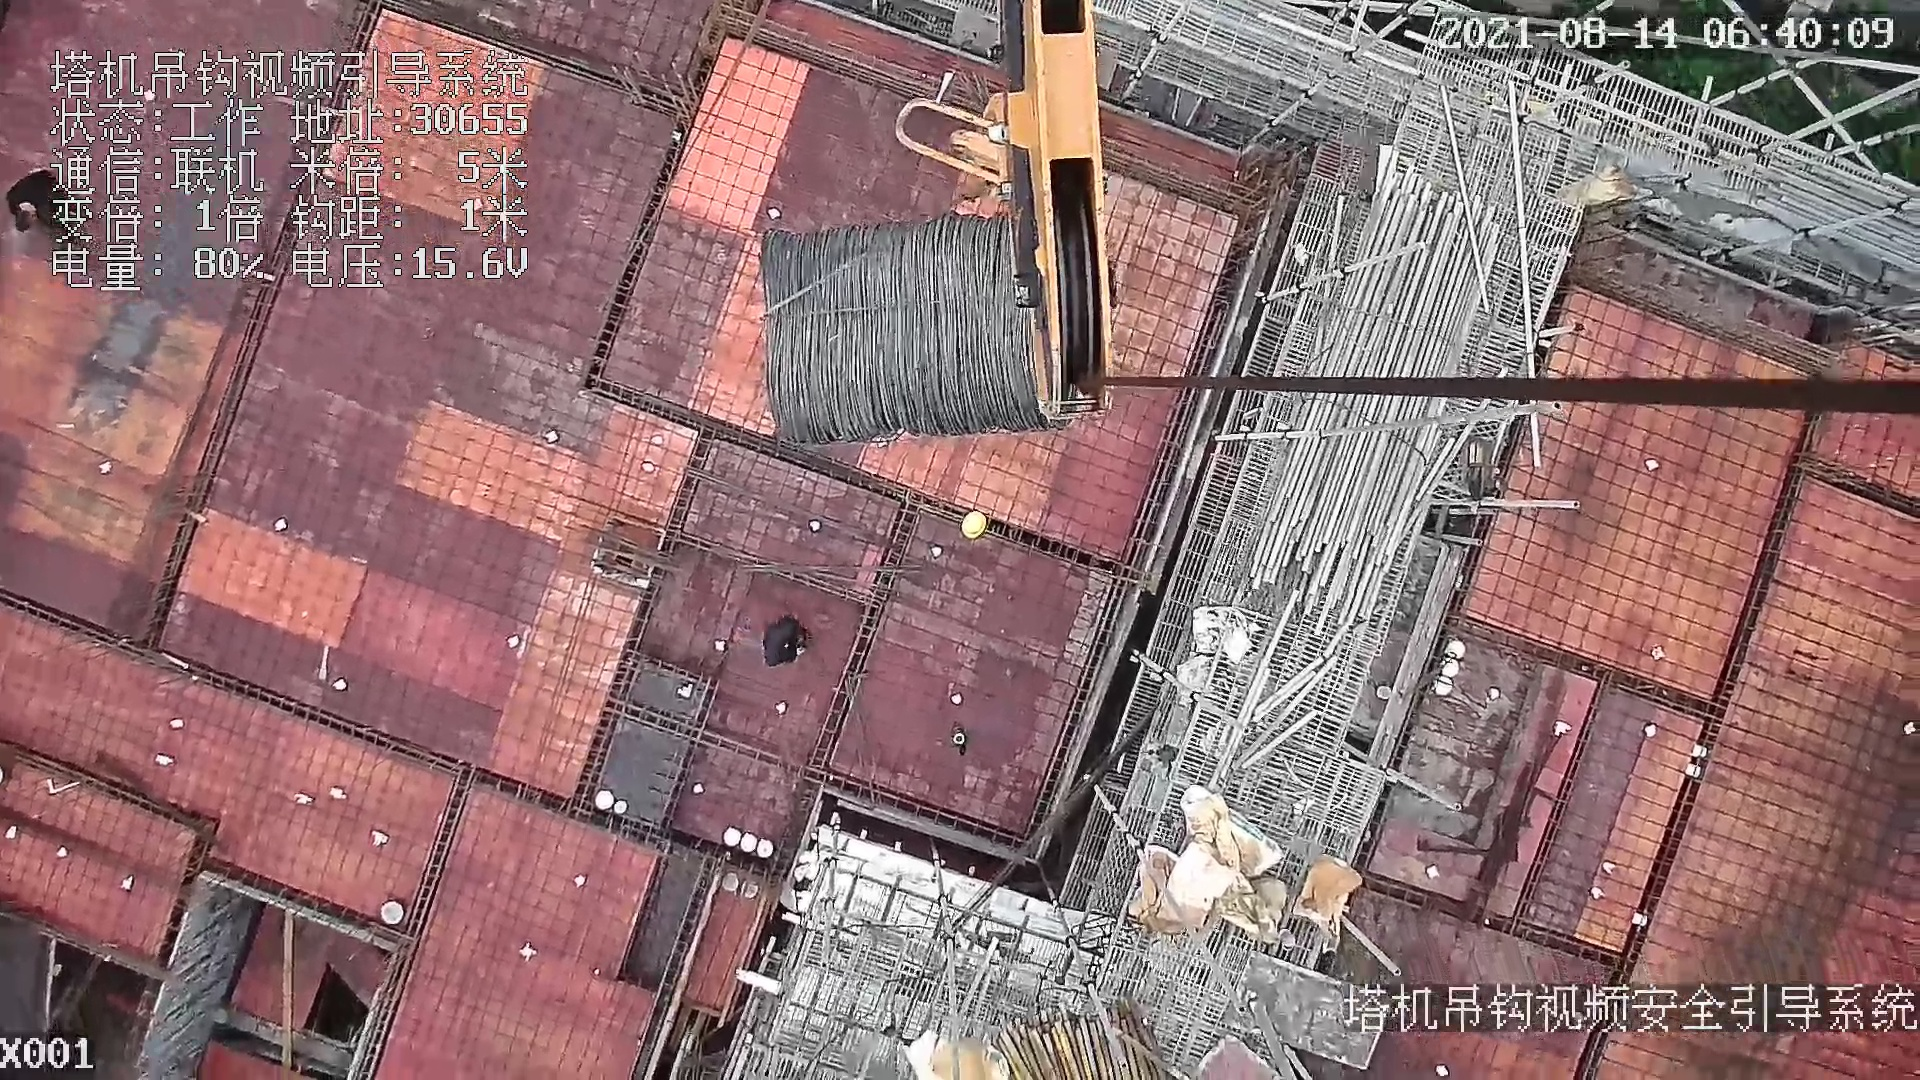helmet: (962, 512, 985, 543)
hook: (890, 1, 1118, 421)
person: (8, 165, 99, 254), (758, 615, 818, 672)
